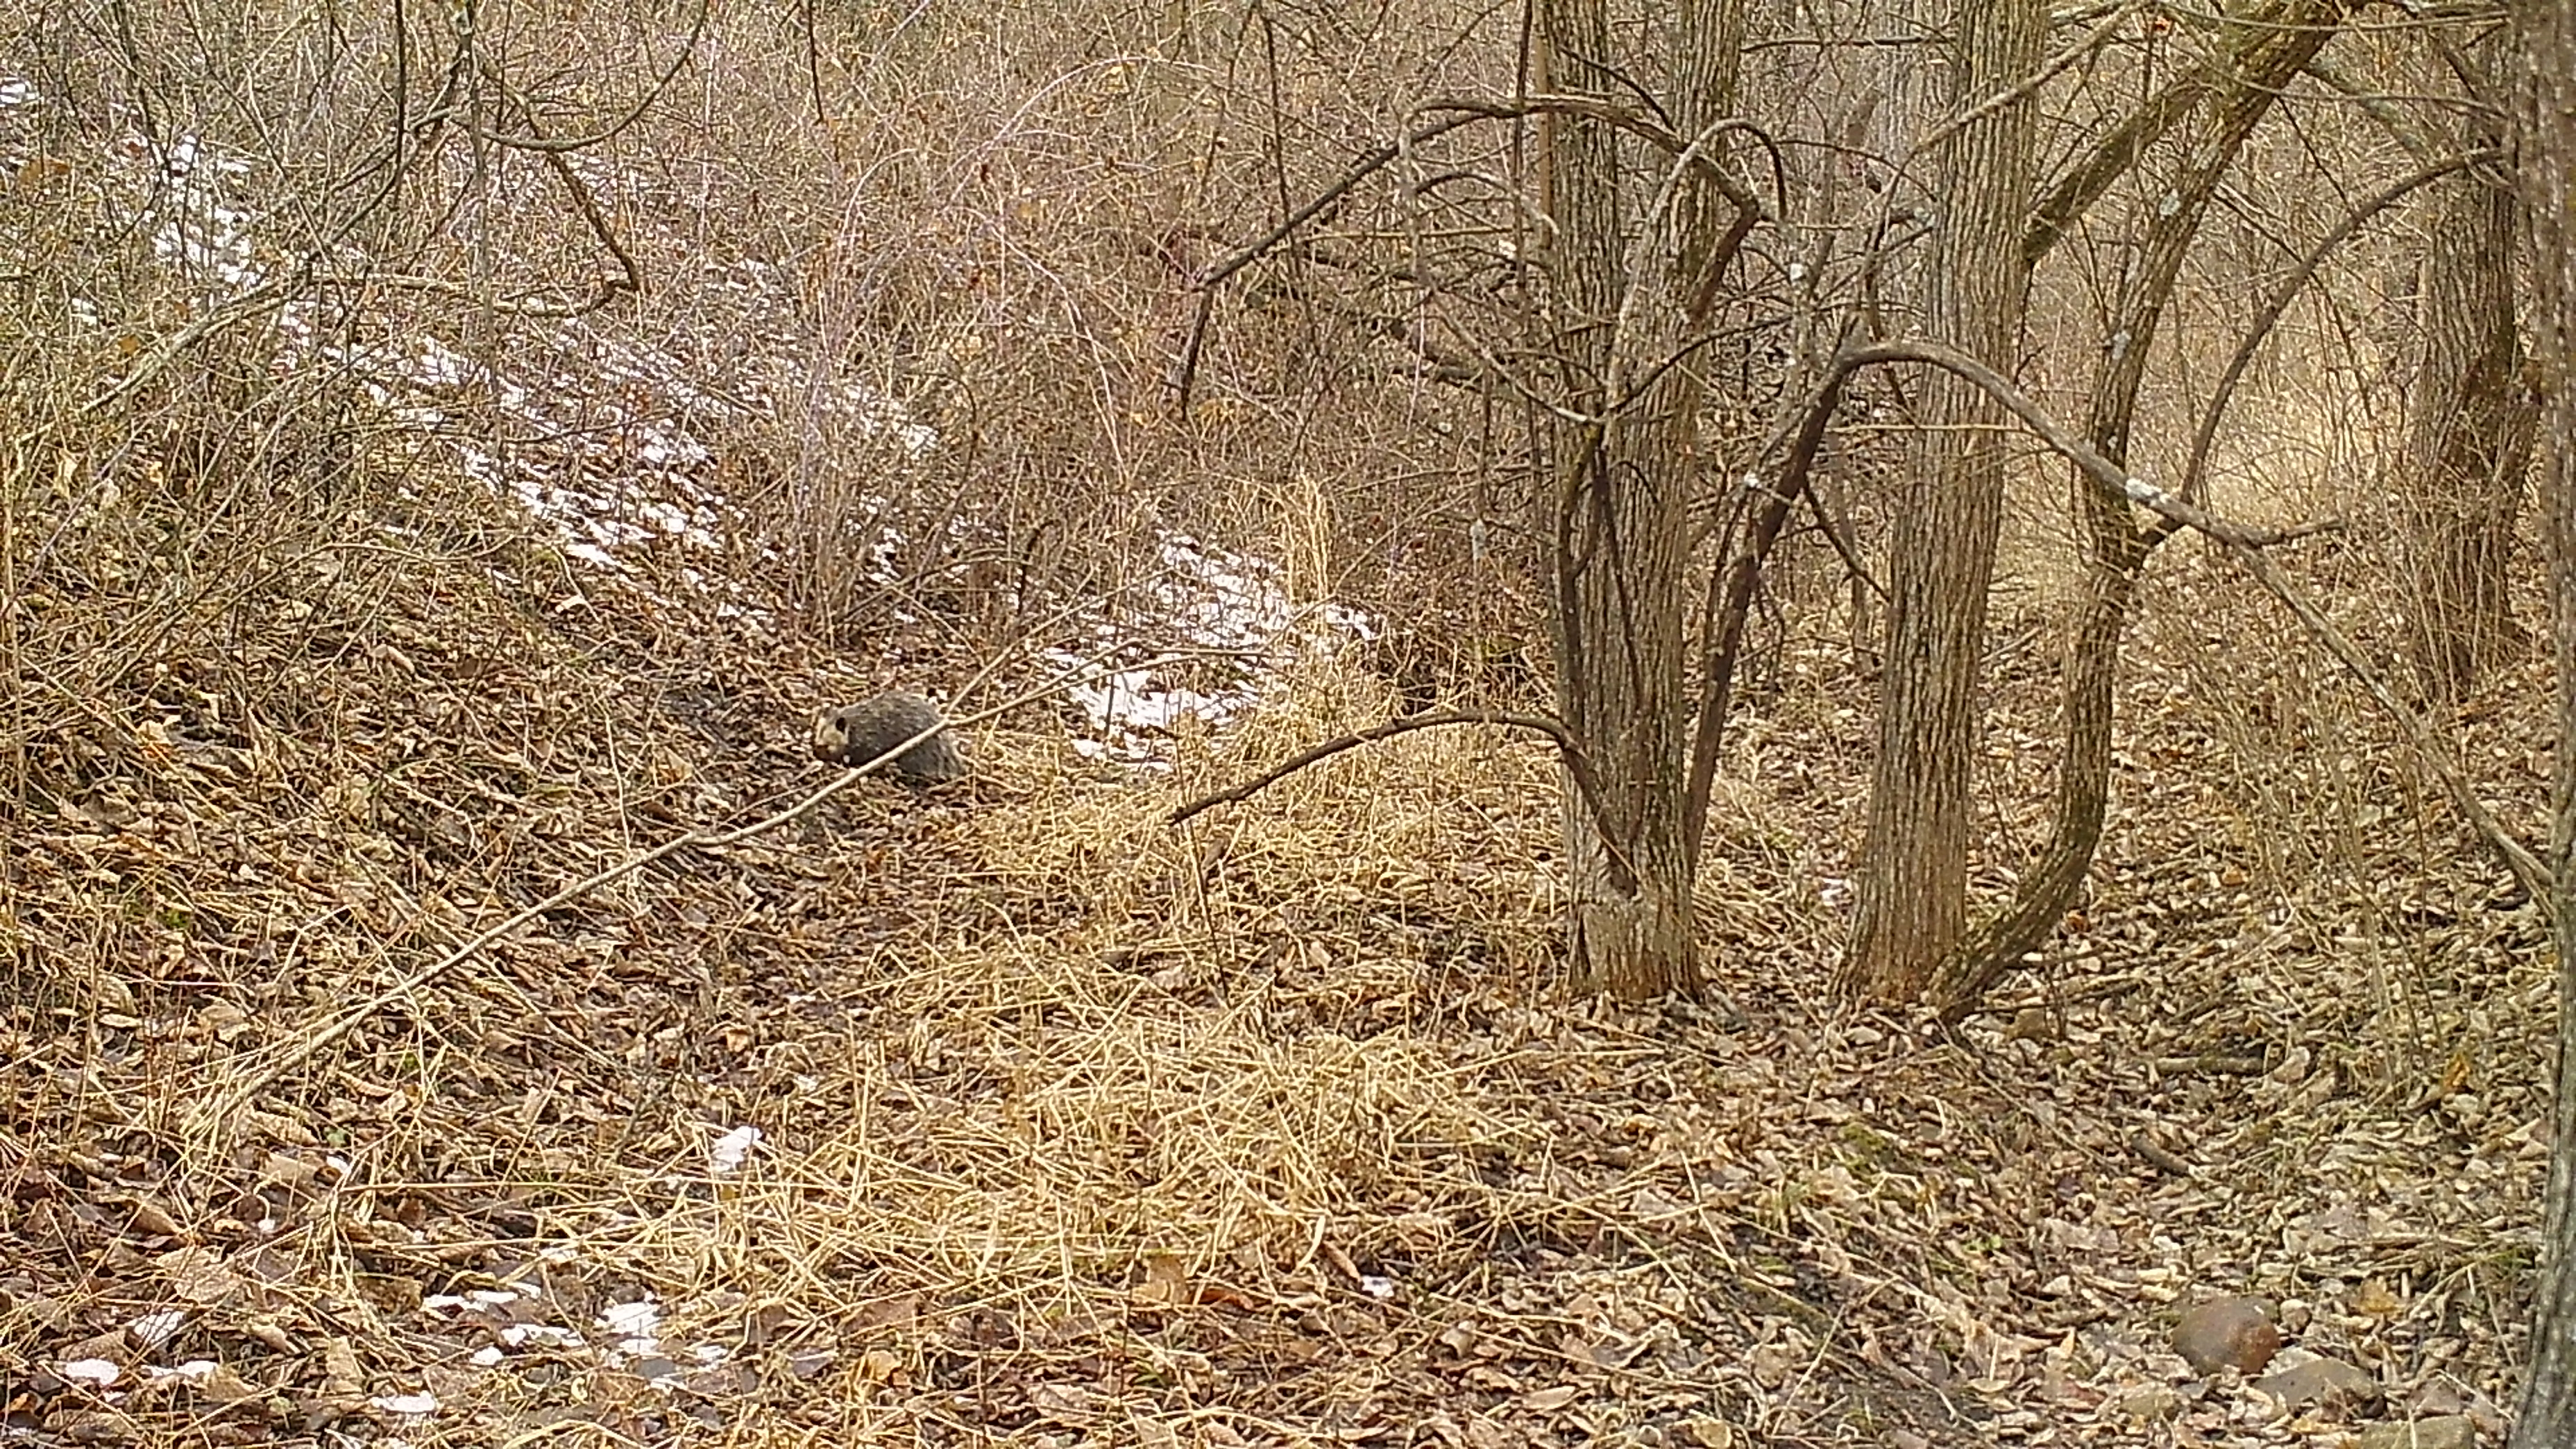Possum: (812, 688, 1028, 796)
